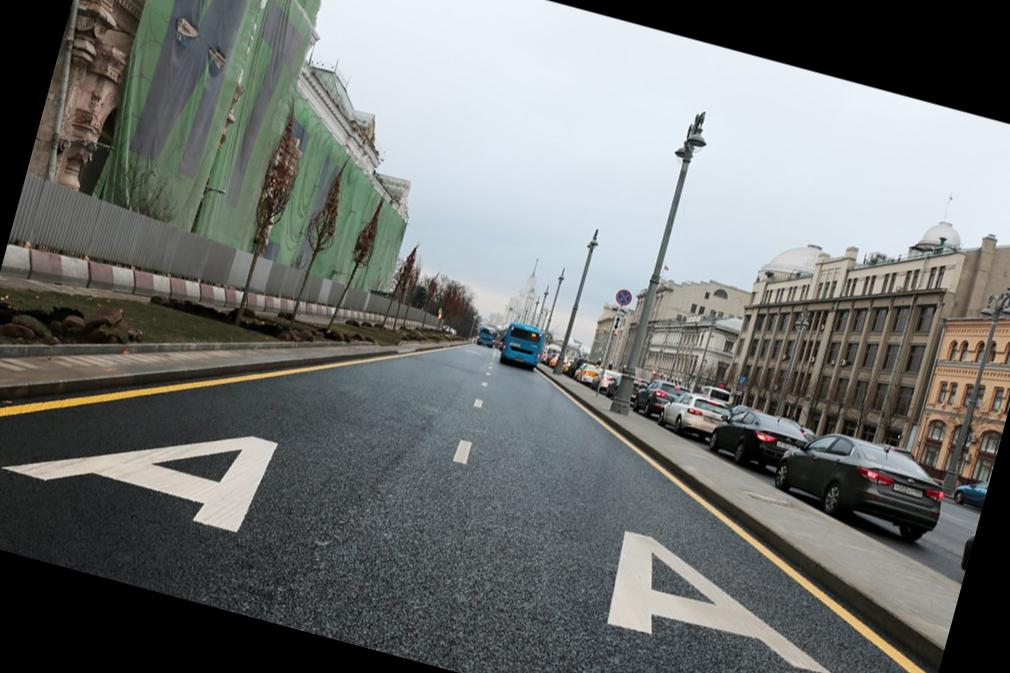bus_line: (0, 342, 921, 673)
